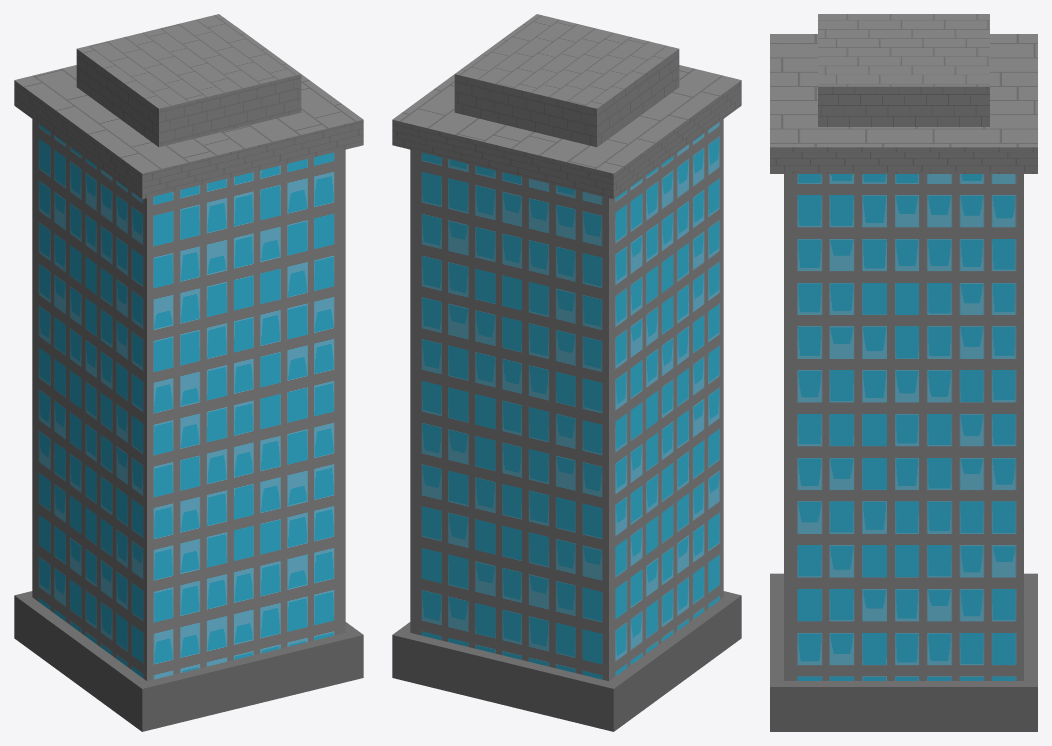
The model's file is skyscratcher3.fbx.
3 renders of one model, left to right at view 1: azimuth 30°, elevation 25°; view 2: azimuth 150°, elevation 25°; view 3: azimuth 270°, elevation 25°, orthographic. The views are drawn at different scales.
Parts seen in each view (by area): view 1: SkyScratcher3; view 2: SkyScratcher3; view 3: SkyScratcher3.
Boxes of the visible parts, x1,y1,x2,y2 form: SkyScratcher3: (14, 14, 363, 731); SkyScratcher3: (392, 14, 741, 731); SkyScratcher3: (770, 14, 1037, 731).
Bounding box in the file's own units: 130 × 334 × 130.
